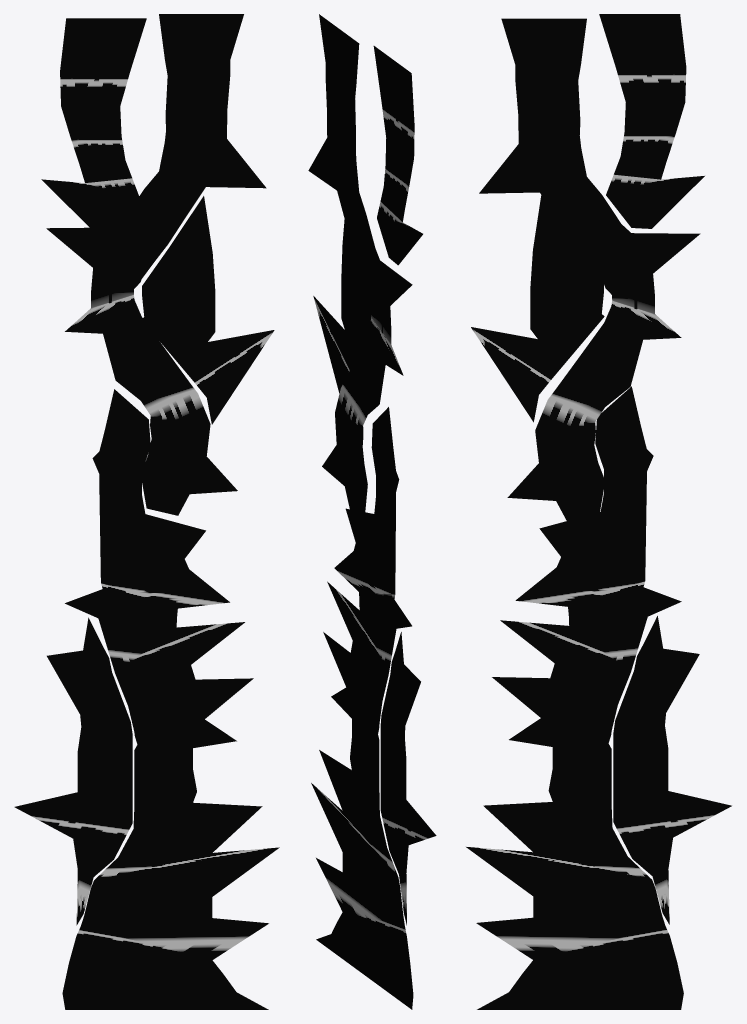
Rendered from vinewallMesh.fbx.
3 renders of one model, left to right at view 1: azimuth 90°, elevation 25°; view 2: azimuth 210°, elevation 25°; view 3: azimuth 270°, elevation 25°, orthographic. The views are drawn at different scales.
Visible parts, largest first — view 1: v1; view 2: v1; view 3: v1.
Part boxes in pixels (x1,y1,x2,y2): v1: (14, 14, 279, 1009); v1: (308, 14, 436, 1009); v1: (466, 14, 731, 1009).
Bounding box in the file's own units: 4.5 × 451 × 110.
